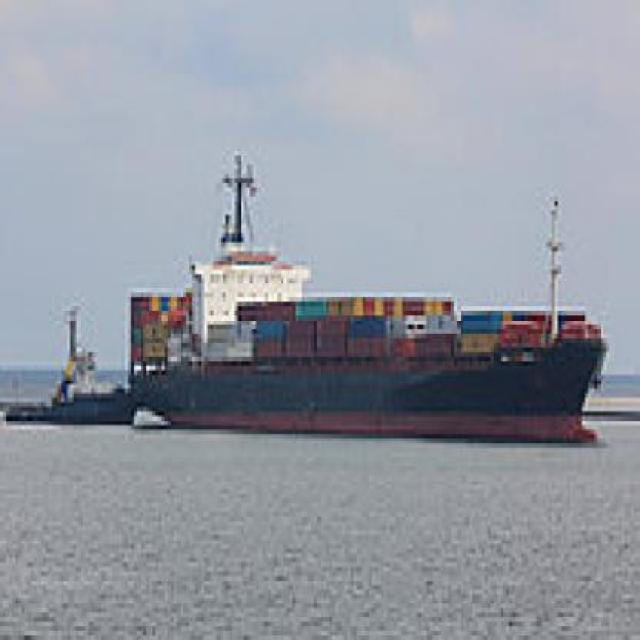container: (114, 225, 617, 454)
